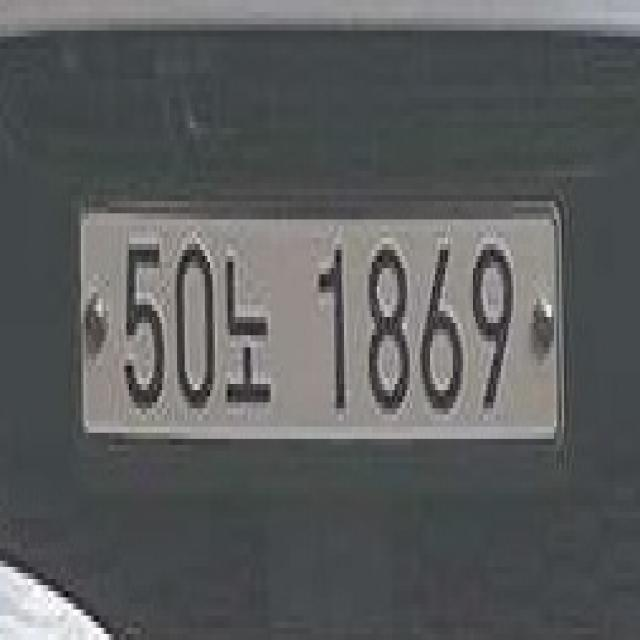0: (172, 228, 216, 426)
1: (311, 234, 352, 424)
5: (114, 224, 167, 426)
6: (416, 235, 464, 425)
8: (362, 232, 413, 424)
9: (468, 232, 520, 423)
license_plate: (66, 195, 575, 456)
no: (220, 231, 282, 421)
